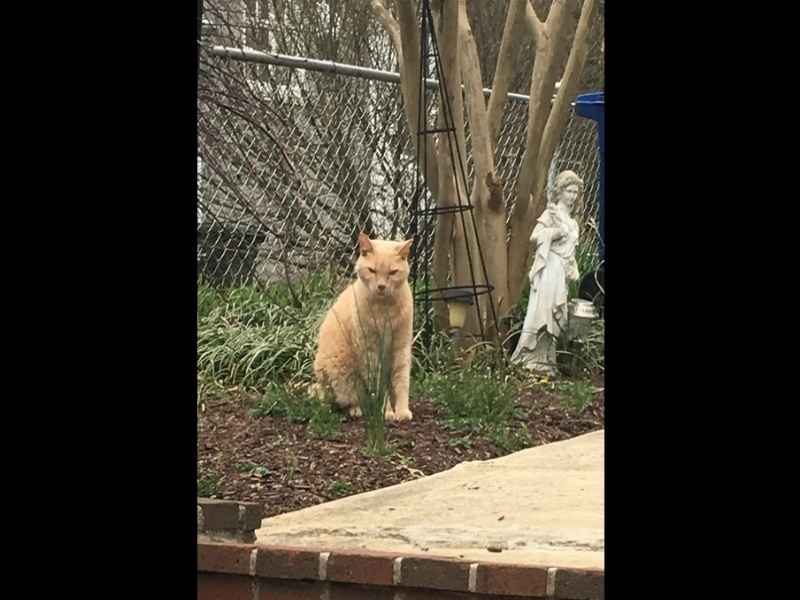cat: (303, 226, 421, 425)
